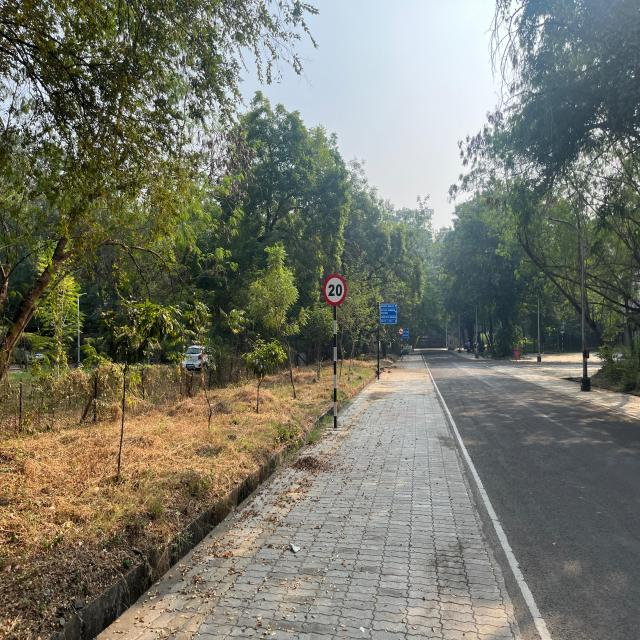forb_speed_over_20: (322, 273, 348, 307)
